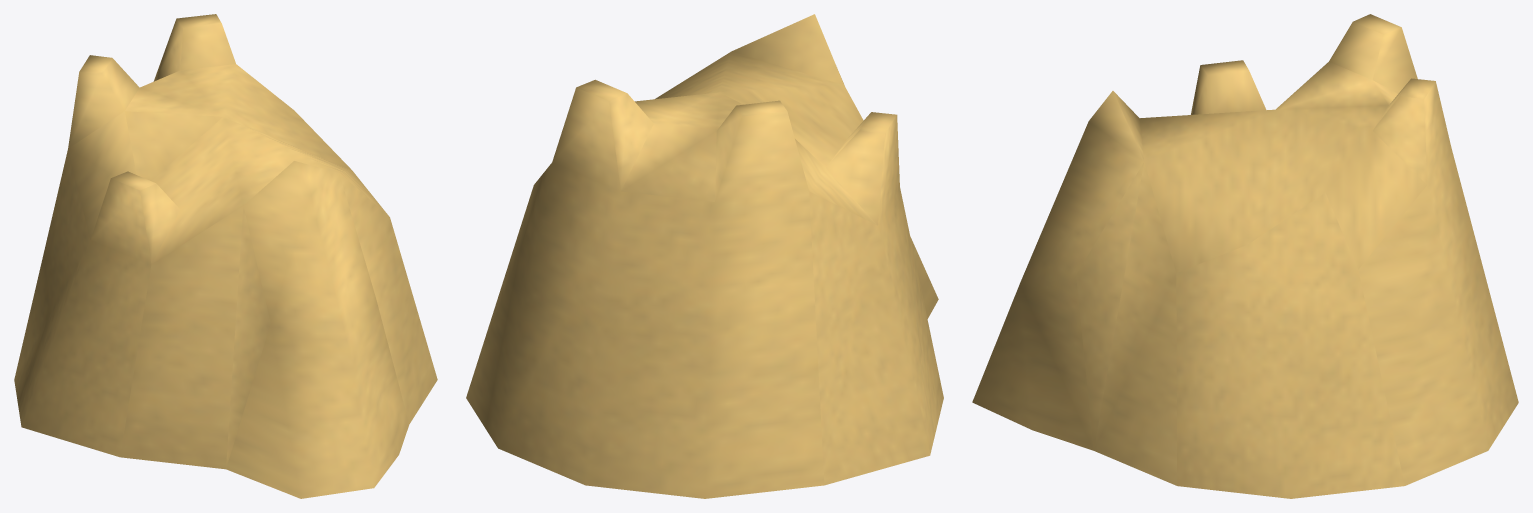
File: SandCastle_01.FBX
3 views of the same model, side by side, from view 1: azimuth 30°, elevation 25°; view 2: azimuth 150°, elevation 25°; view 3: azimuth 270°, elevation 25° (orthographic). The views are drawn at different scales.
Visible parts, largest first — view 1: SandCastle_01; view 2: SandCastle_01; view 3: SandCastle_01.
Boxes of the visible parts, <box> form: SandCastle_01: <box>14,14,437,498</box>; SandCastle_01: <box>466,14,943,498</box>; SandCastle_01: <box>972,14,1518,498</box>.
Bounding box in the file's own units: 0.3595 × 0.4106 × 0.2743.
